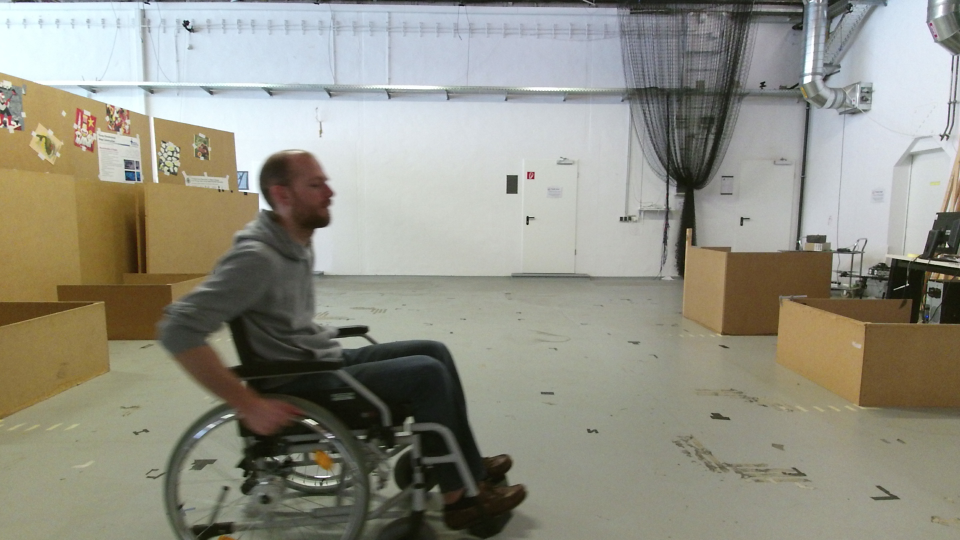wheelchair: (148, 146, 528, 540)
